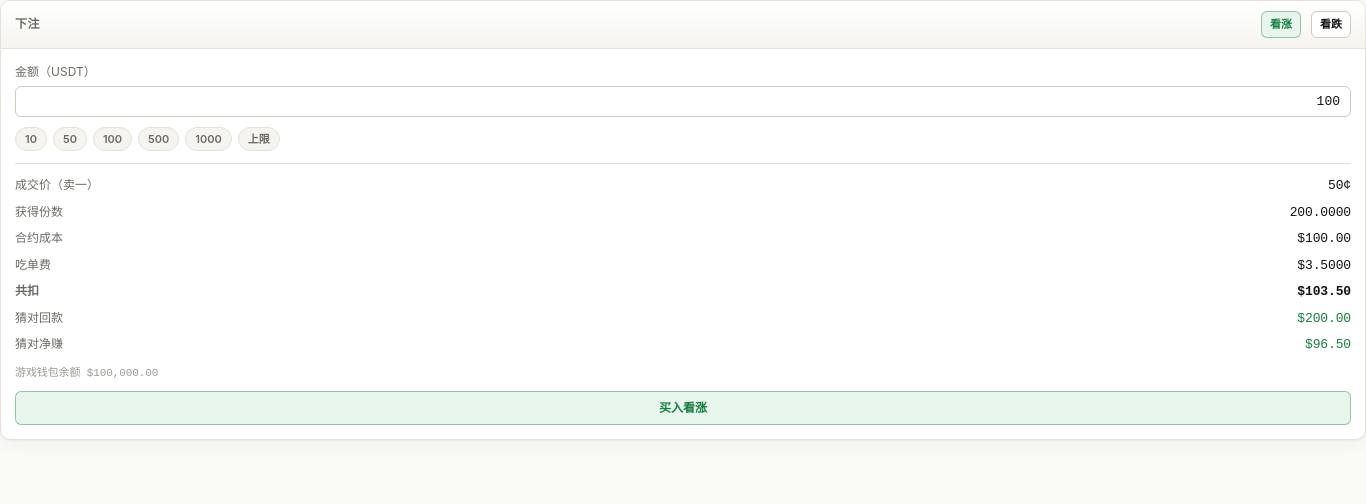
Test case: BetTicket：下单与错误提示 › 余额不足时给出明确提示
Expected: the text "200.0000" is shown, [1290,204,1351,220]
Click the button "买入看涨". click: (683, 408)
box: [15,391,1351,425]
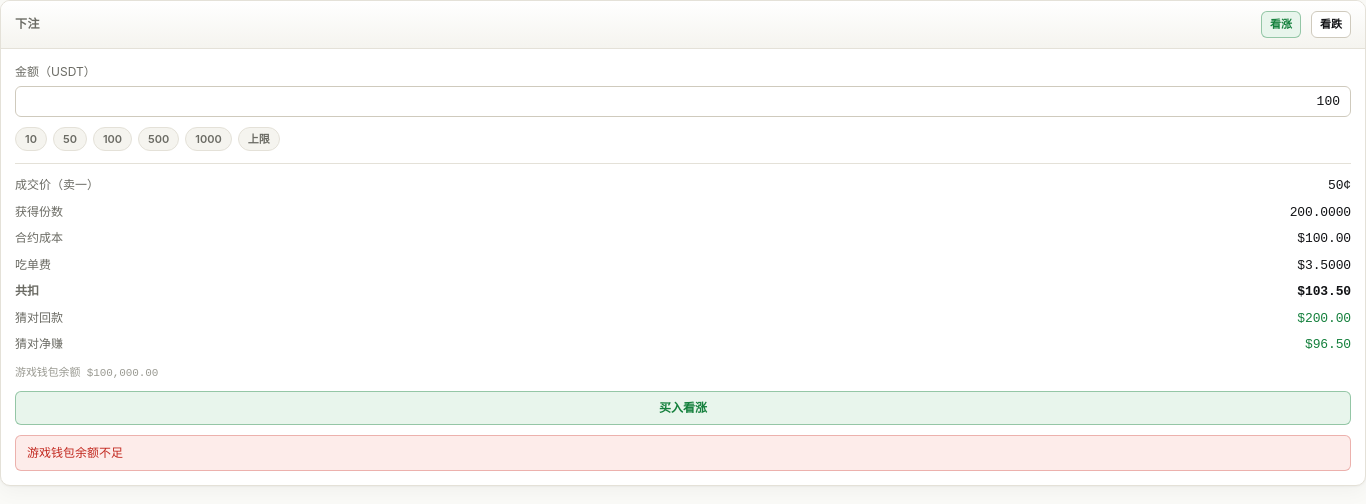
Now the text "游戏钱包余额不足" is shown, box [15,435,1351,471]
